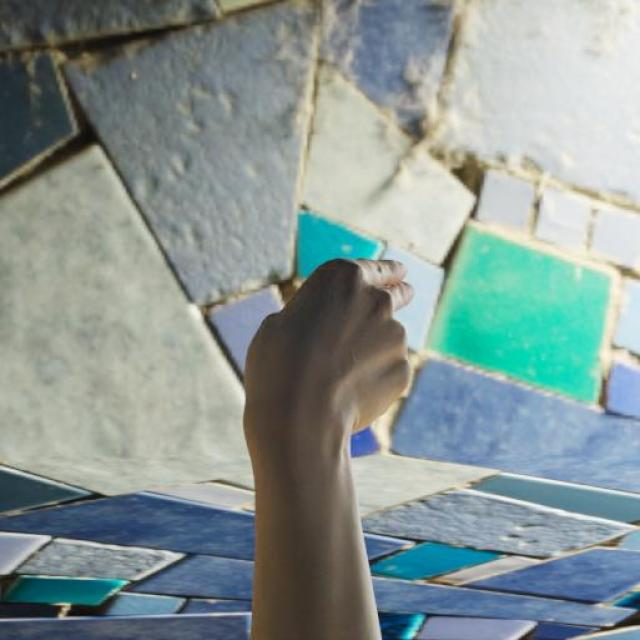H: (242, 253, 413, 438)
